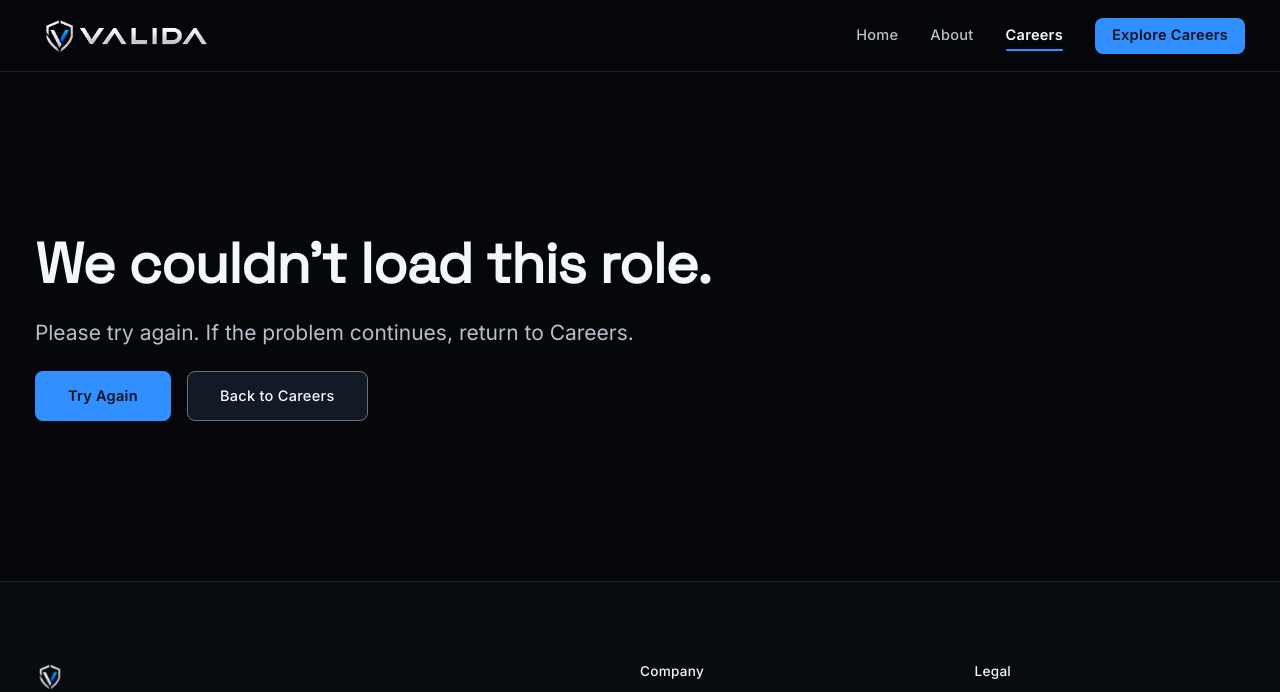
Scenario: Job Detail — unavailable and error › retries with a genuinely new request
Step 1. Click the button "Try Again" → (103,396), box [35,371,171,421]
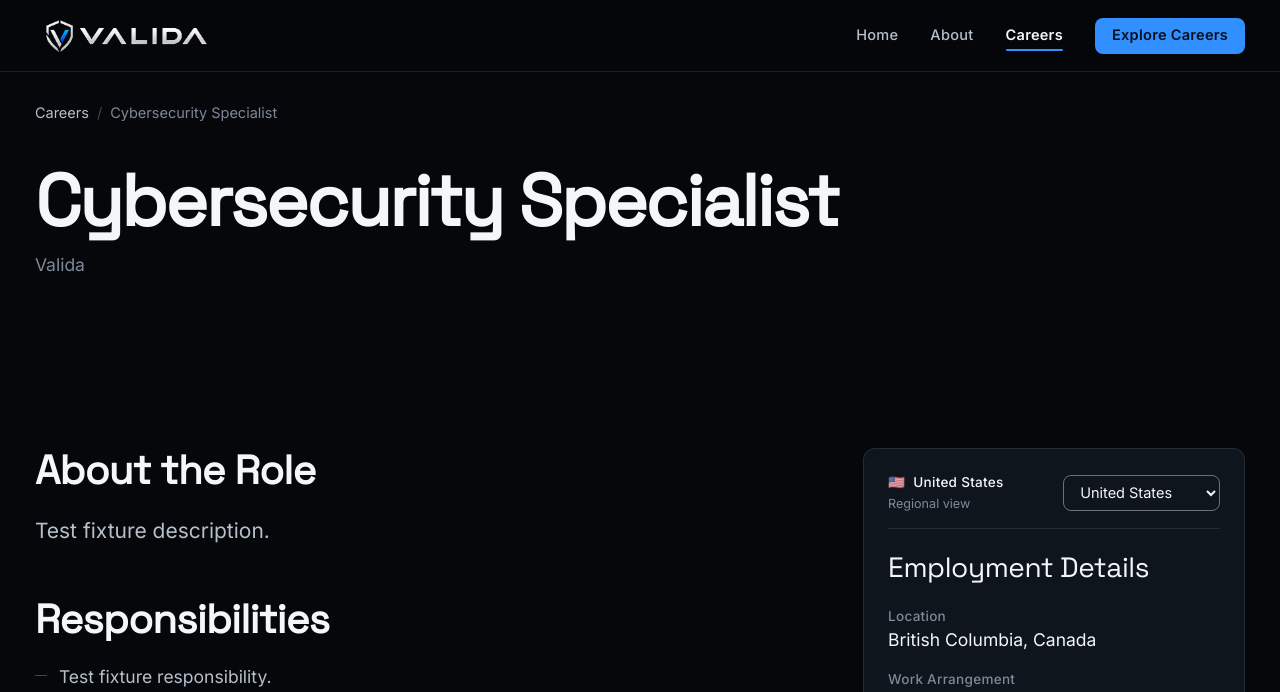
Now the heading "Cybersecurity Specialist" is shown, box [35,155,838,247]
